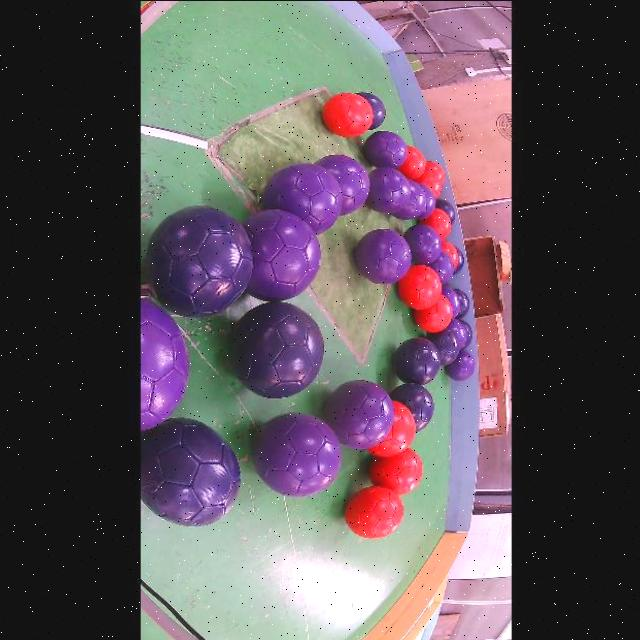B: (146, 205, 252, 317), (141, 416, 239, 526), (230, 301, 323, 397), (393, 336, 441, 384), (389, 383, 434, 430), (427, 329, 460, 365), (357, 91, 386, 129), (435, 198, 456, 222), (454, 287, 470, 318), (461, 319, 473, 349), (453, 246, 465, 273)
P: (252, 411, 341, 496), (243, 209, 321, 300), (261, 162, 342, 234), (323, 379, 394, 449), (315, 153, 370, 215), (354, 228, 411, 283), (366, 166, 411, 212), (363, 130, 407, 167), (403, 223, 442, 264), (391, 179, 425, 219), (444, 349, 475, 380), (428, 250, 453, 283), (415, 181, 435, 219), (446, 318, 466, 347), (442, 285, 460, 317)
R: (344, 485, 403, 538), (368, 399, 415, 456), (370, 447, 422, 495), (322, 92, 372, 136), (398, 264, 442, 309), (413, 294, 452, 331), (419, 207, 451, 239), (398, 145, 425, 179), (415, 170, 442, 197), (425, 159, 446, 184), (442, 239, 459, 267)
